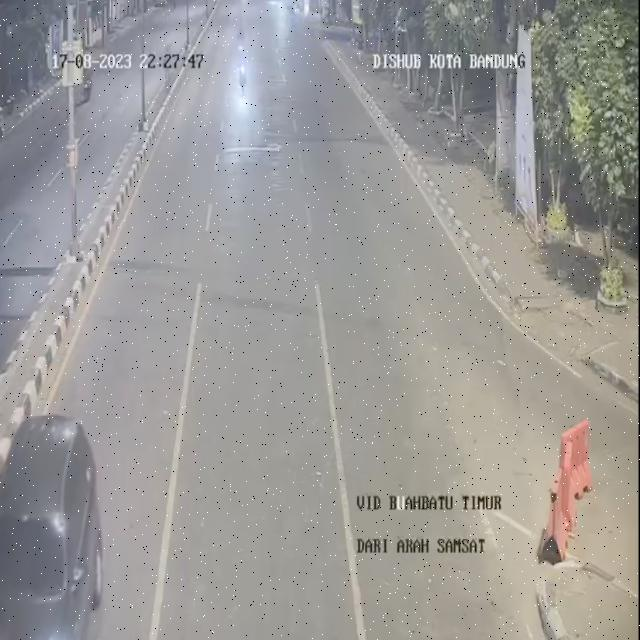cars: (0, 416, 111, 639)
motorcycle: (236, 53, 250, 96), (234, 26, 247, 60)
